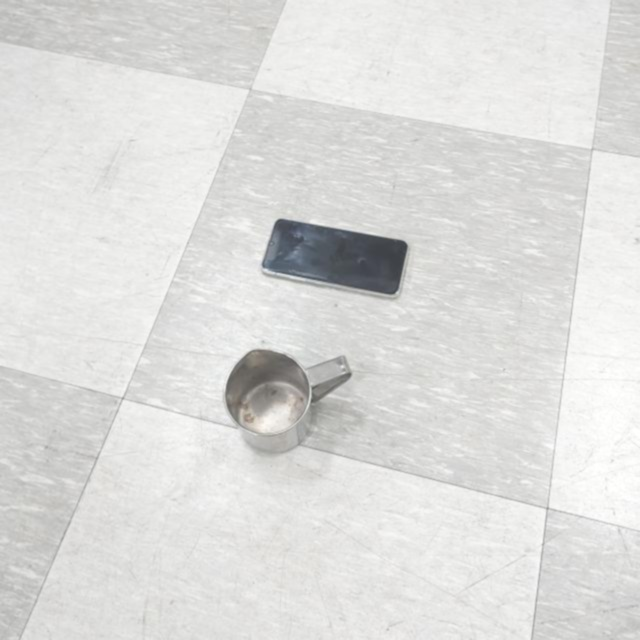cup: (223, 349, 351, 453)
phone: (261, 220, 411, 297)
